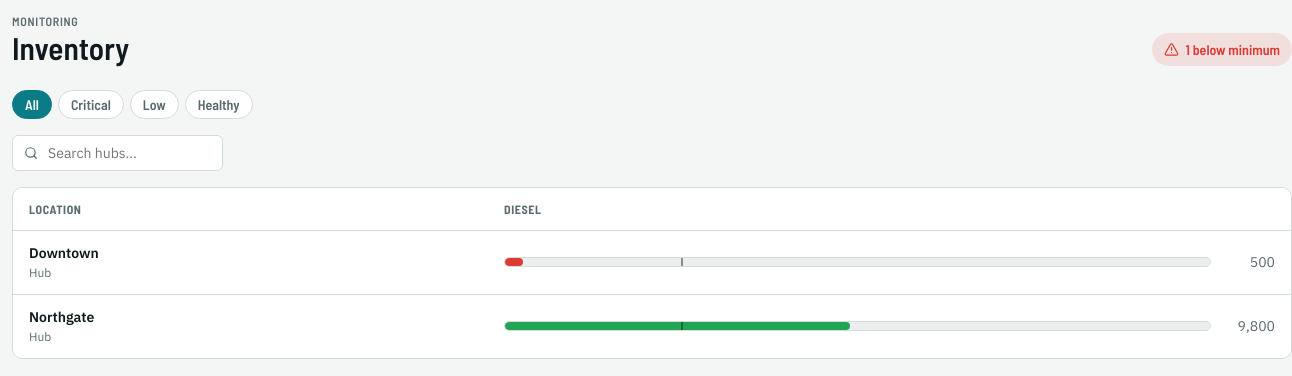
Test: InventoryPage › shows a below-minimum alert and filters to critical hubs
Check: the text "1 below minimum" is shown, box [1152, 33, 1291, 66]
Click the tab "Critical": (91, 104) [58, 90, 124, 119]
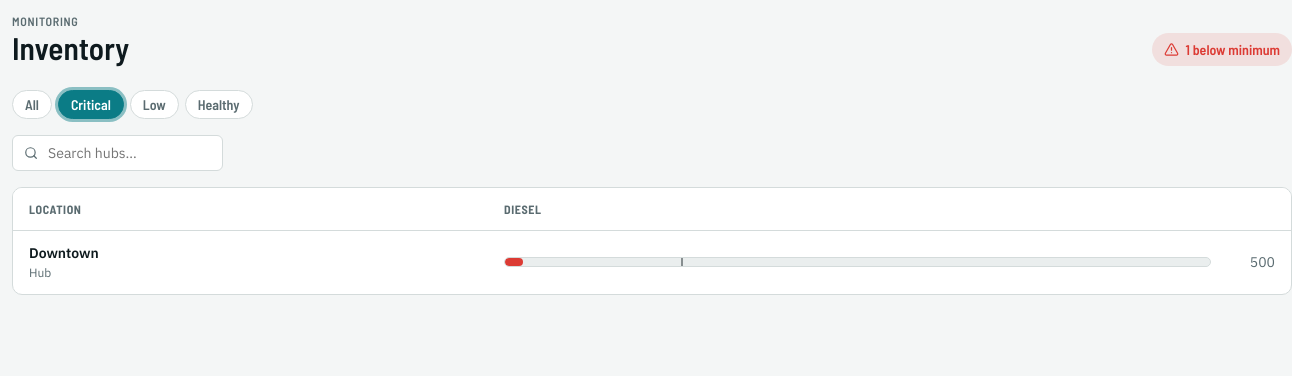
Check: the text "Downtown" is shown, box [29, 244, 99, 262]
Check: the text "Northgate" is gone
